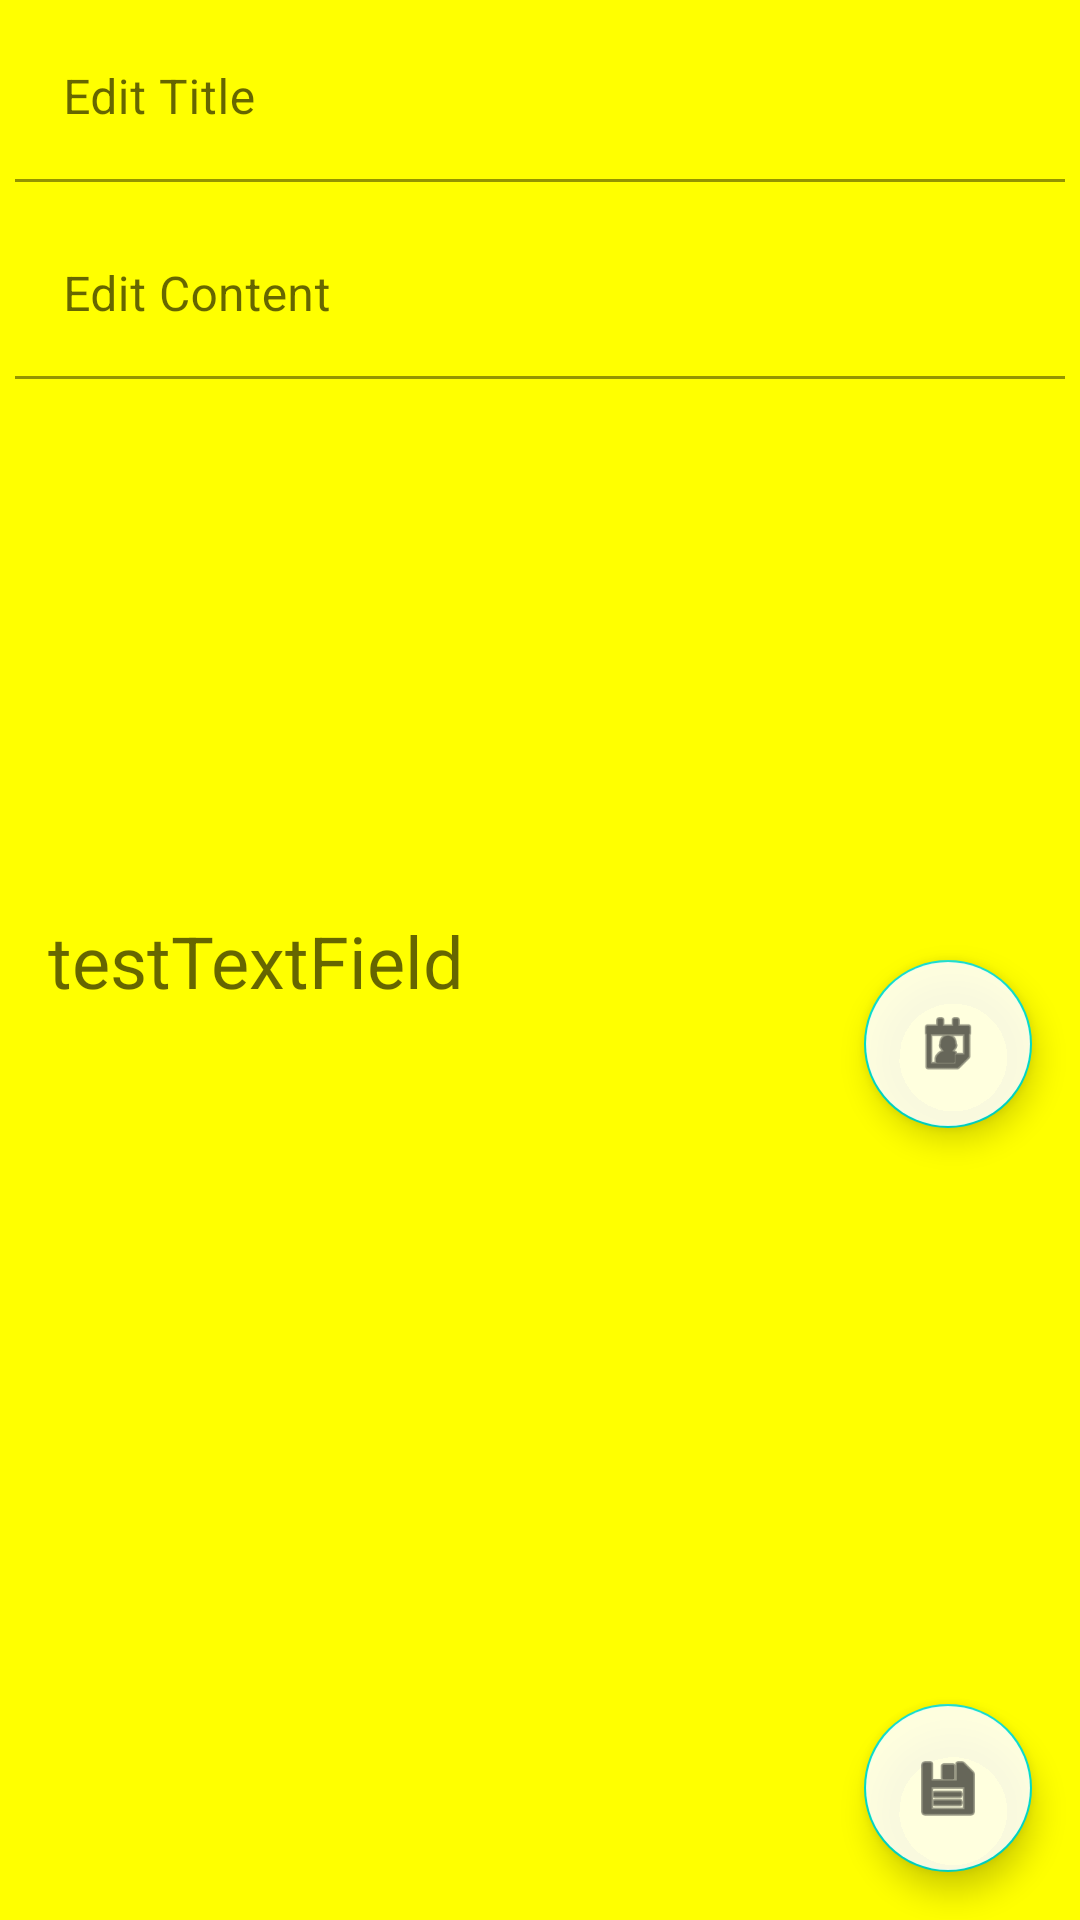

Where to tap for icons on this 1080px×1920px app screen, as (x,y):
calendar: (948,1044)
save: (948,1788)
